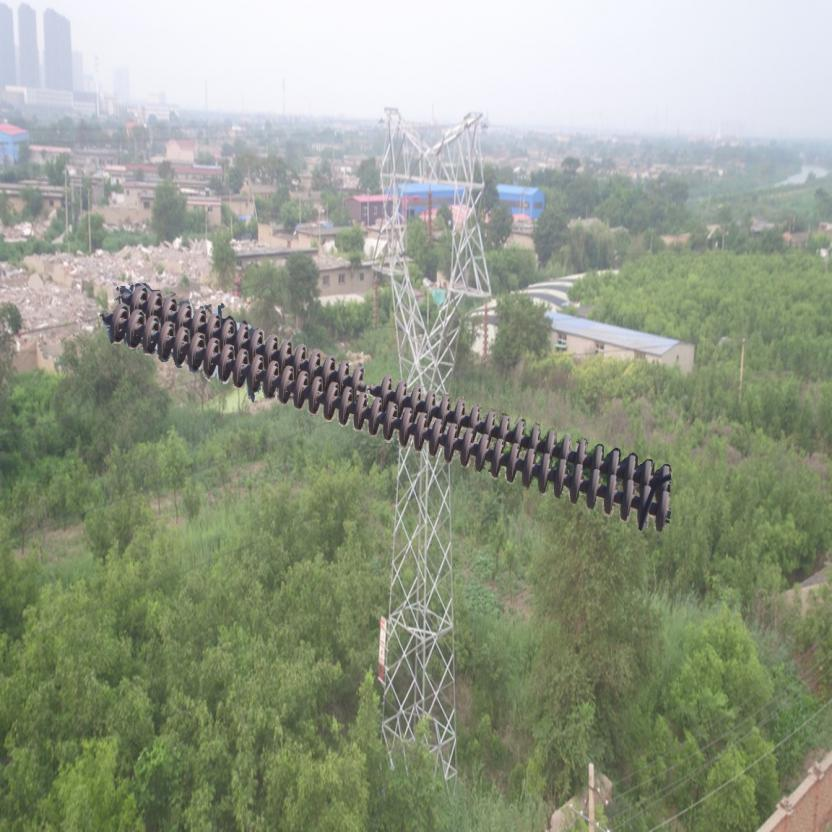defect: (351, 360, 396, 402)
